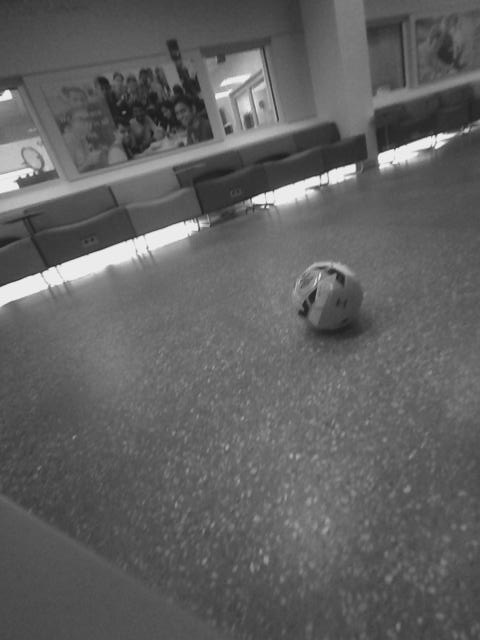ball: (290, 253, 367, 332)
